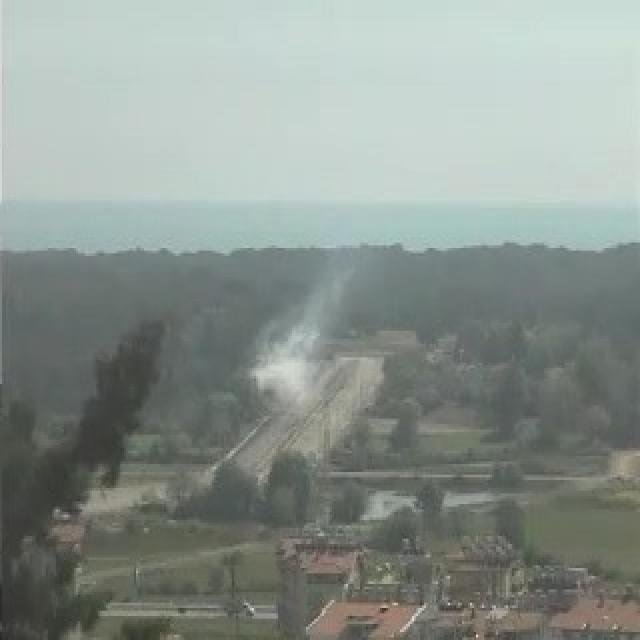smoke: (249, 277, 337, 399)
